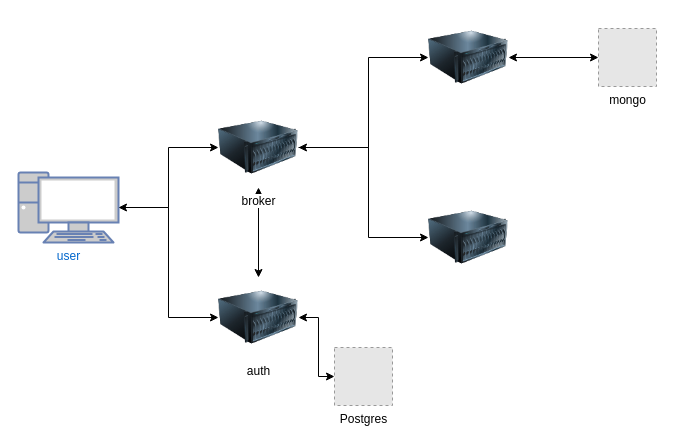
Some shapes in this 674 by 443 pixel diagram are drawn without their labels. Grey dashed boxes stand in for pictures. The shapes that lost their labels are listed below. From the top down, each one's box as (x1, y1, x2, y2) in pixels, then its label:
(428, 17, 508, 97): logger
(428, 197, 508, 277): mail
